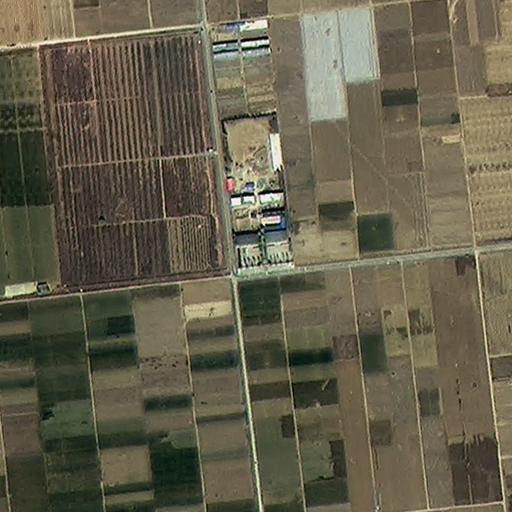school: (223, 110, 299, 278)
